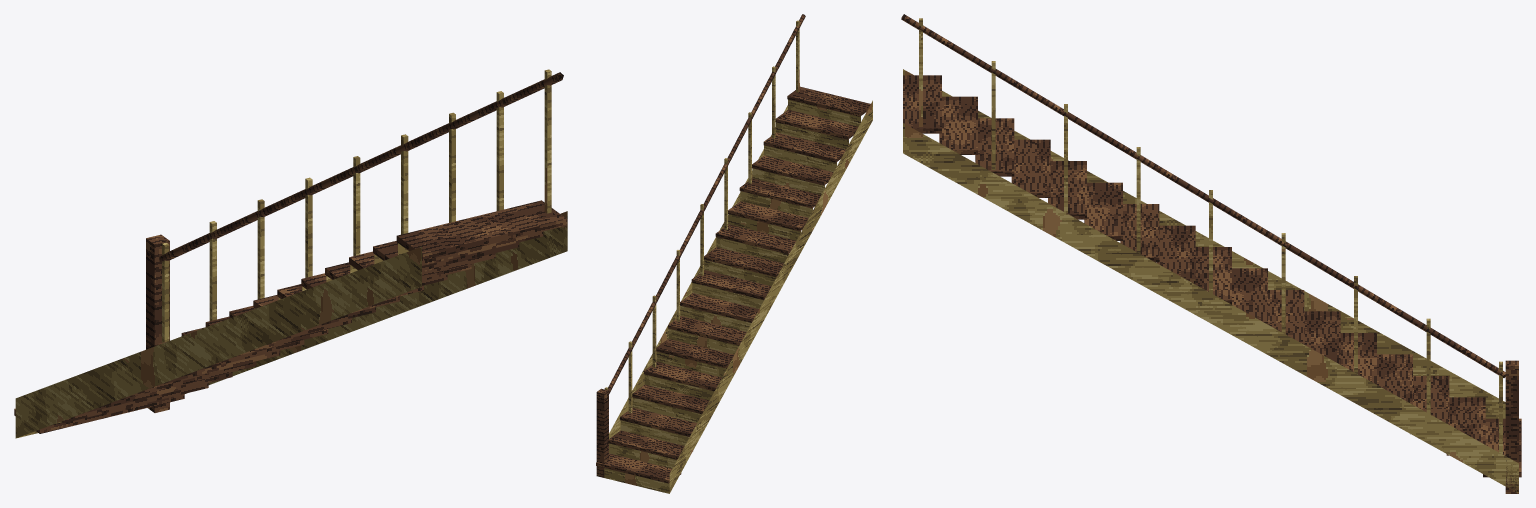
File: RES_Int_Stair_Storey_3.0m.obj
3 renders of one model, left to right at view 1: azimuth 30°, elevation 25°; view 2: azimuth 150°, elevation 25°; view 3: azimuth 270°, elevation 25°, orthographic. The views are drawn at different scales.
Visible parts, largest first — view 1: RES_Int_Stair_Storey_3.0m_Mesh_M_Furn_WoodPainted, RES_Int_Stair_Storey_3.0m_Mesh_M_Furn_WoodDark; view 2: RES_Int_Stair_Storey_3.0m_Mesh_M_Furn_WoodDark, RES_Int_Stair_Storey_3.0m_Mesh_M_Furn_WoodPainted; view 3: RES_Int_Stair_Storey_3.0m_Mesh_M_Furn_WoodDark, RES_Int_Stair_Storey_3.0m_Mesh_M_Furn_WoodPainted.
Boxes of the visible parts, left/top/right/bottom form: RES_Int_Stair_Storey_3.0m_Mesh_M_Furn_WoodPainted: left=15, top=69, right=567, bottom=438; RES_Int_Stair_Storey_3.0m_Mesh_M_Furn_WoodDark: left=14, top=72, right=567, bottom=433; RES_Int_Stair_Storey_3.0m_Mesh_M_Furn_WoodDark: left=596, top=14, right=870, bottom=483; RES_Int_Stair_Storey_3.0m_Mesh_M_Furn_WoodPainted: left=597, top=20, right=872, bottom=493; RES_Int_Stair_Storey_3.0m_Mesh_M_Furn_WoodDark: left=901, top=14, right=1521, bottom=493; RES_Int_Stair_Storey_3.0m_Mesh_M_Furn_WoodPainted: left=903, top=18, right=1518, bottom=492.
Bounding box in the file's own units: 0.95 × 3.92 × 4.62.
Materials: 2 (2 with a texture image).
